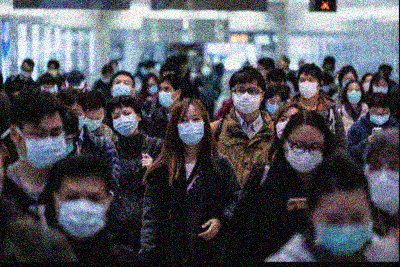with_mask: (313, 204, 372, 258), (56, 186, 105, 239), (20, 122, 65, 168), (366, 156, 399, 213), (285, 136, 322, 173), (176, 112, 204, 144), (234, 83, 261, 115), (112, 107, 138, 135), (298, 75, 318, 100), (157, 83, 175, 108), (111, 77, 130, 97), (84, 113, 104, 131), (370, 107, 389, 125), (265, 97, 282, 116), (347, 86, 363, 105), (373, 83, 388, 95), (145, 80, 157, 93)
